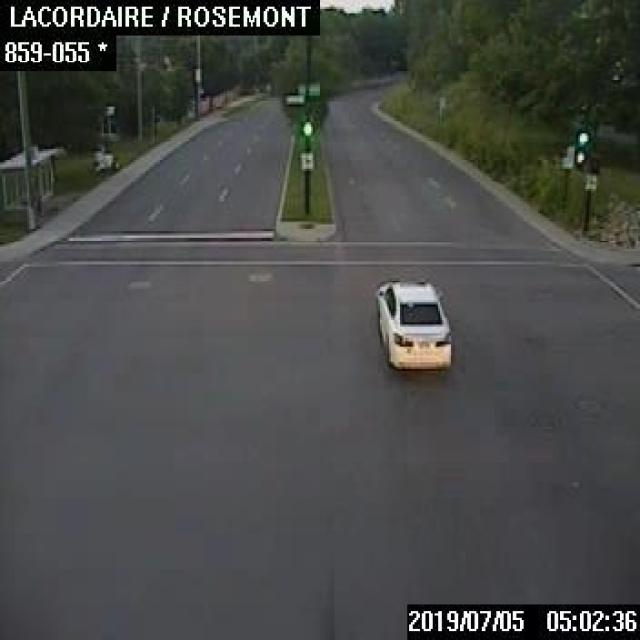vehicle: (374, 278, 450, 368)
